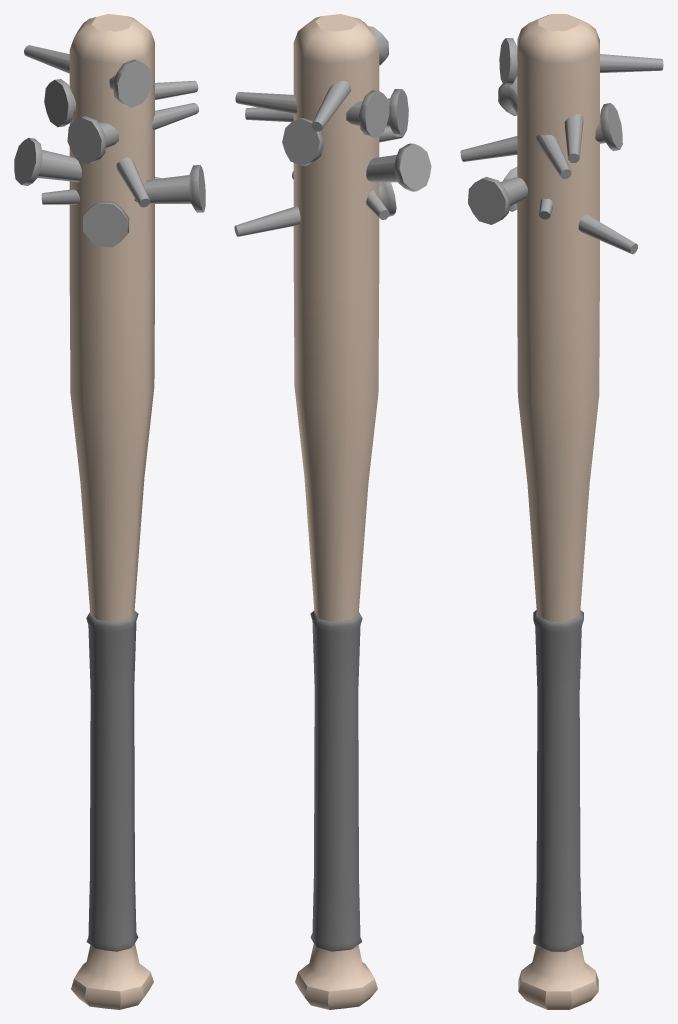
Rendered from Spiked Baseball Bat.fbx.
3 views of the same model, side by side, from view 1: azimuth 30°, elevation 25°; view 2: azimuth 150°, elevation 25°; view 3: azimuth 270°, elevation 25° (orthographic).
Parts seen in each view (by area): view 1: pCube11; view 2: pCube11; view 3: pCube11.
Boxes of the visible parts, box(x1,y1,x2,y2) form: pCube11: box(14, 14, 205, 1009); pCube11: box(234, 14, 431, 1009); pCube11: box(460, 14, 663, 1009).
Bounding box in the file's own units: 2.86 × 14.62 × 2.76.
